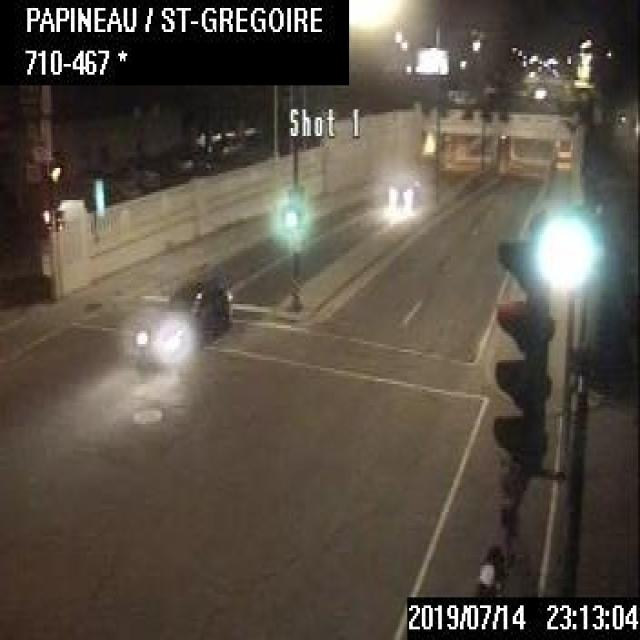vehicle: (134, 272, 231, 357), (384, 168, 424, 210)
